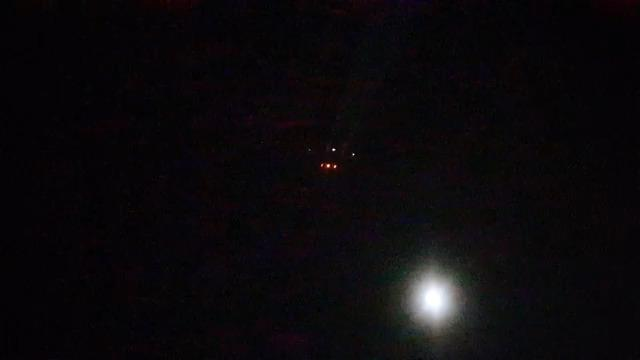Plane: (306, 132, 362, 177)
